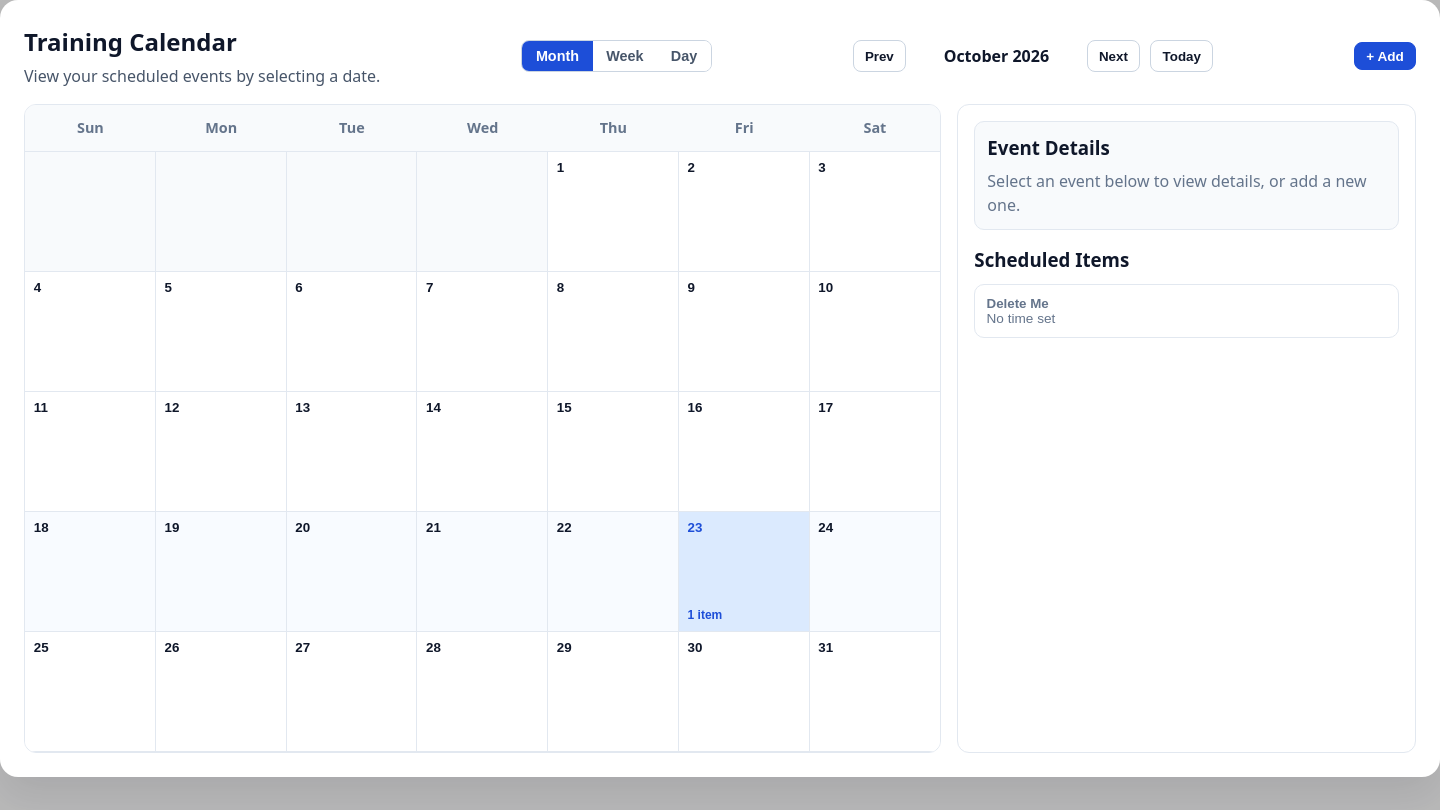
Test case: Calendar Component › deletes an entry when Delete is clicked
Click the button "Delete Me No time set".
click(1018, 304)  # box [974,284,1399,338]
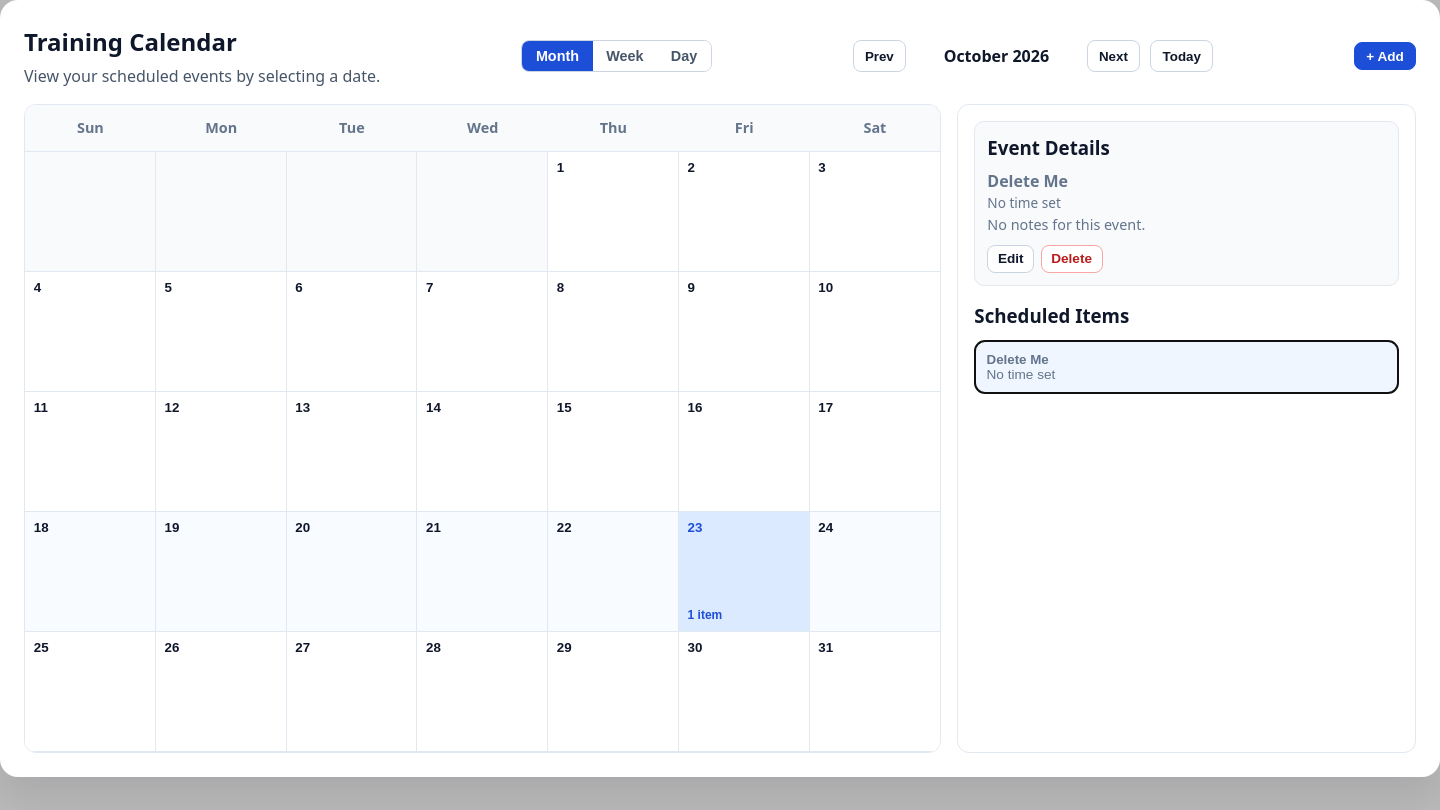
Click the button "Delete".
click(1072, 259)  # box [1041,245,1103,273]
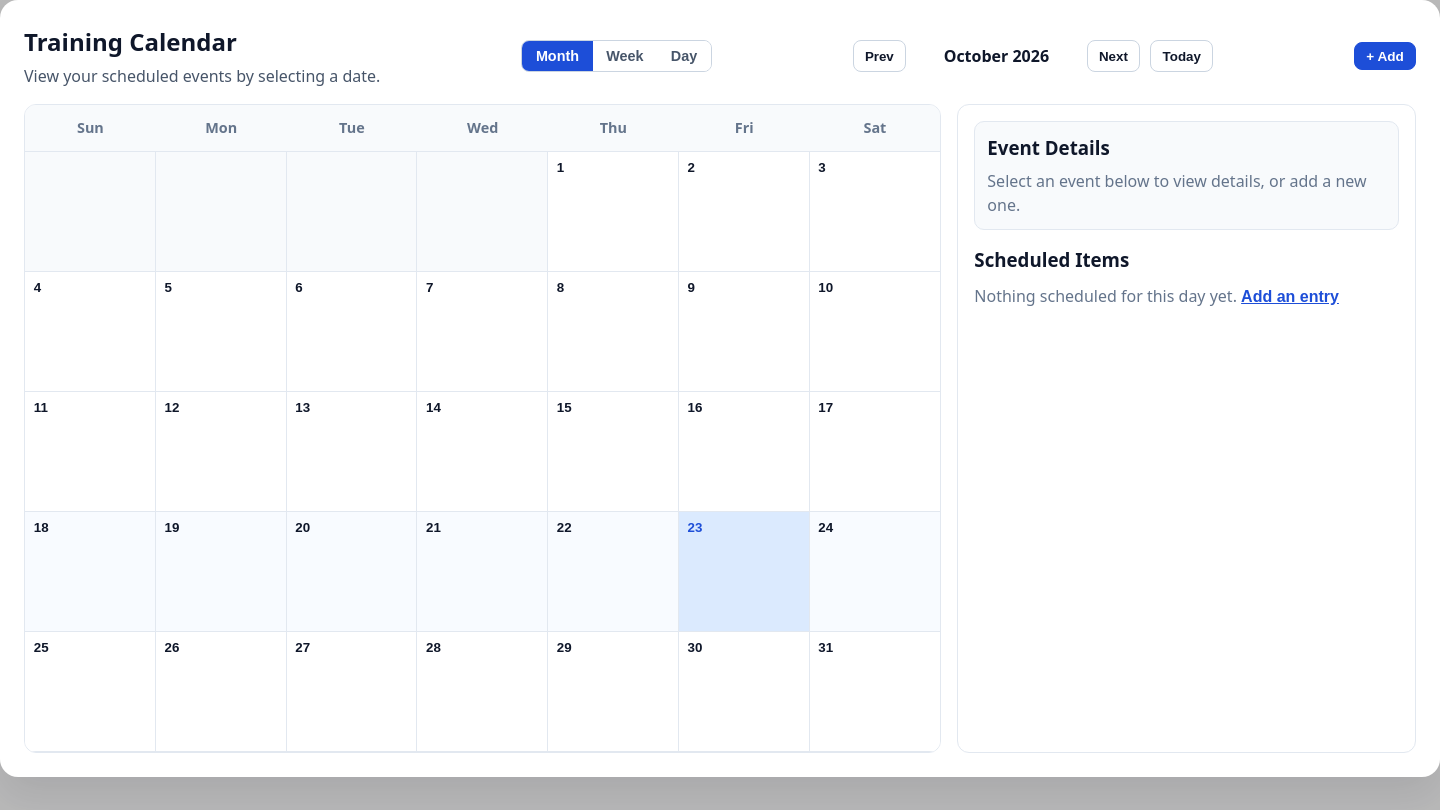
Check: the text "Delete Me" is gone
